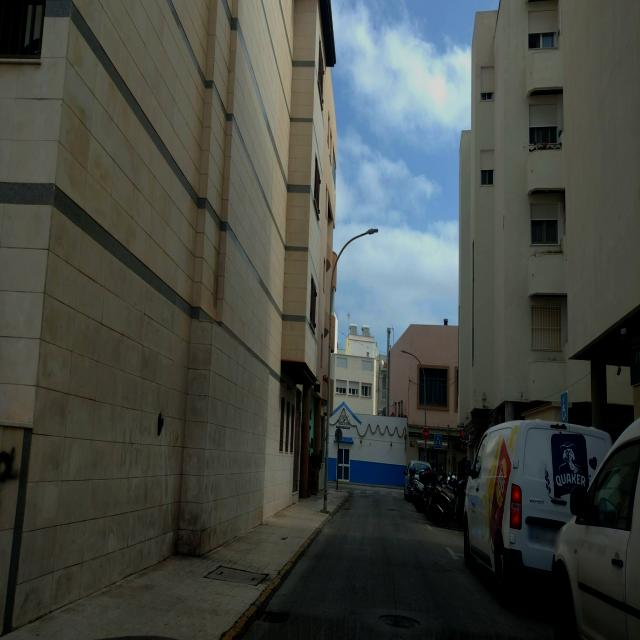bike: (428, 475, 464, 526)
car: (462, 417, 614, 605), (549, 397, 640, 638), (404, 459, 432, 502)
